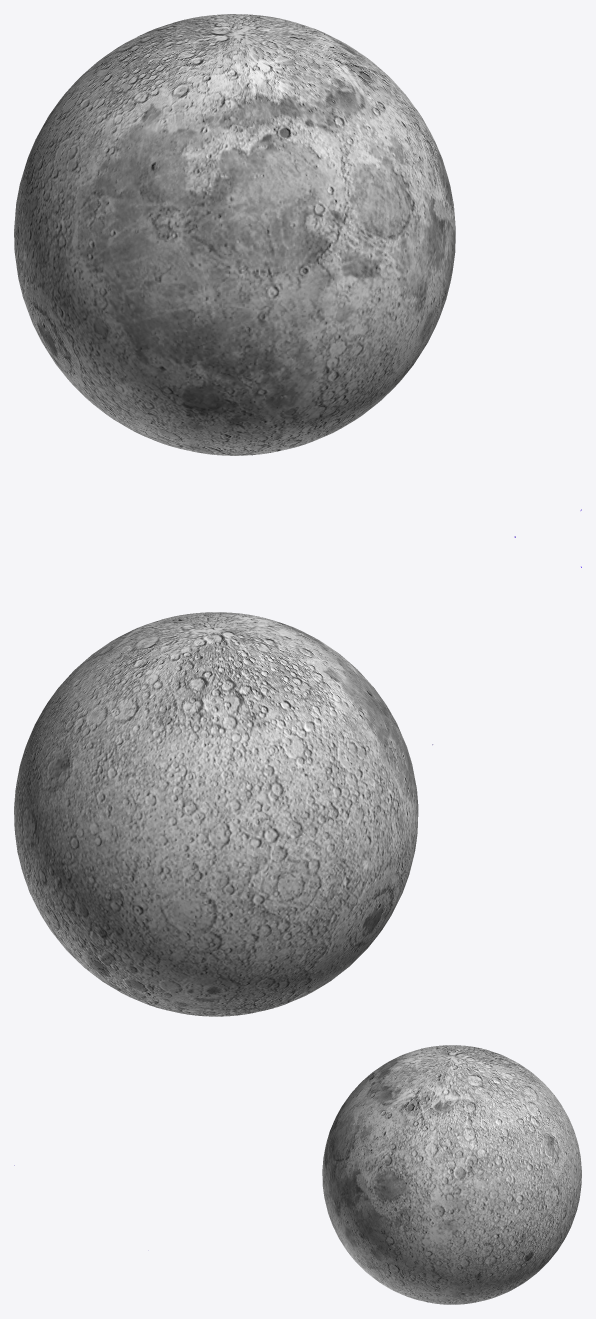
The model's file is Moon.obj.
3 renders of one model, top to bottom at view 1: azimuth 30°, elevation 25°; view 2: azimuth 150°, elevation 25°; view 3: azimuth 270°, elevation 25°, orthographic. The views are drawn at different scales.
Visible parts, largest first — view 1: Sphere06; view 2: Sphere06; view 3: Sphere06.
Part boxes in pixels (<box>): Sphere06: <box>14,14,455,455</box>; Sphere06: <box>14,612,418,1016</box>; Sphere06: <box>322,1045,581,1304</box>.
Size of the model in its own units: 530 by 531 by 1161.
3 materials, 1 textured.
